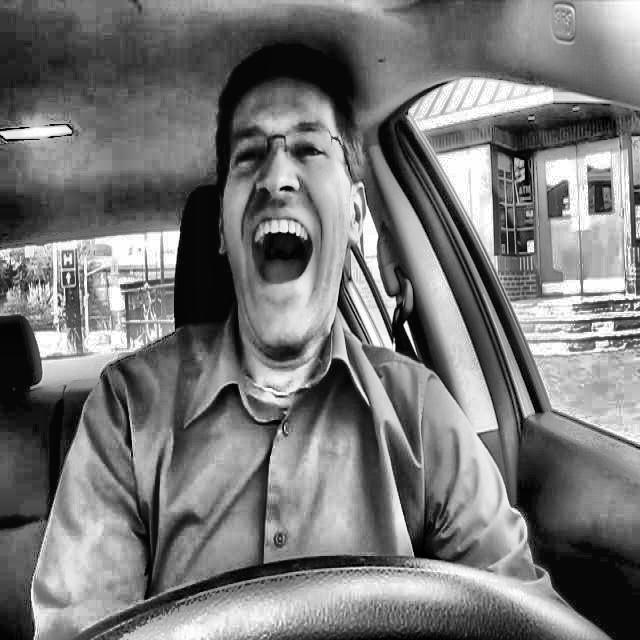open_mouth: (234, 202, 328, 303)
